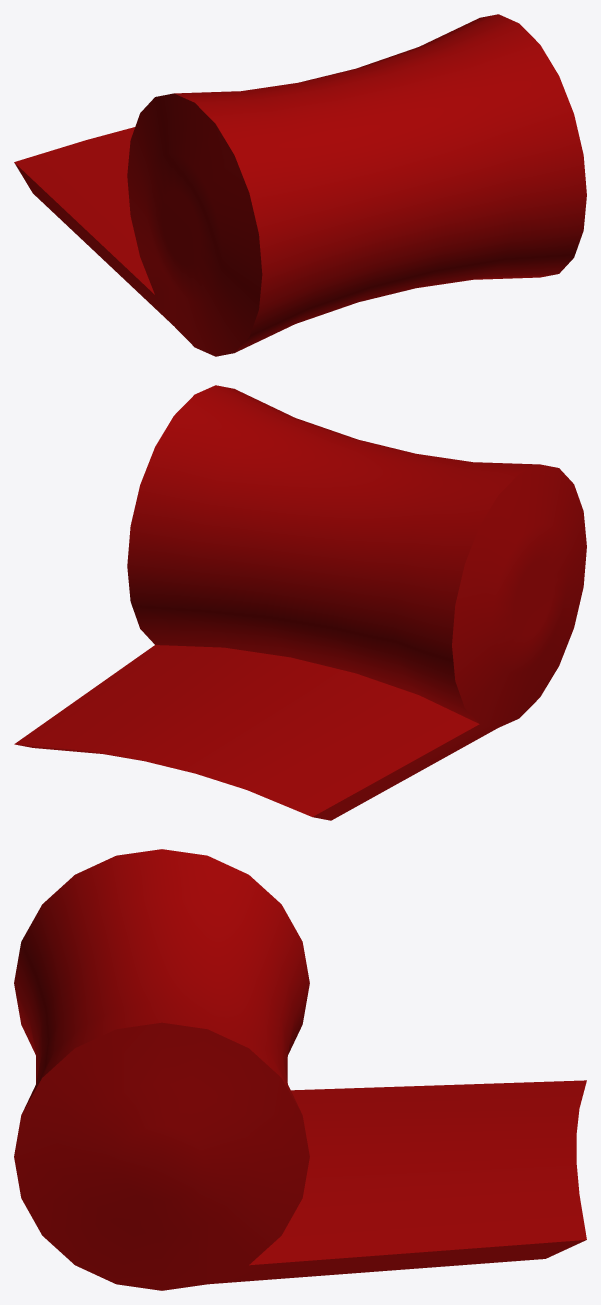
Rendered from Venda.fbx.
3 views of the same model, one above another, from view 1: azimuth 30°, elevation 25°; view 2: azimuth 150°, elevation 25°; view 3: azimuth 270°, elevation 25° (orthographic). The views are drawn at different scales.
Visible parts, largest first — view 1: pCylinder1; view 2: pCylinder1; view 3: pCylinder1.
Part boxes in pixels (x1,y1,x2,y2): pCylinder1: (14, 14, 586, 356); pCylinder1: (14, 385, 586, 820); pCylinder1: (14, 849, 586, 1290).
Size of the model in its own units: 3.53 by 2.35 by 4.54.
